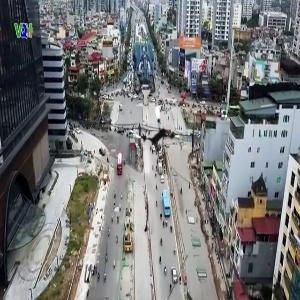drone: (133, 105, 185, 157)
